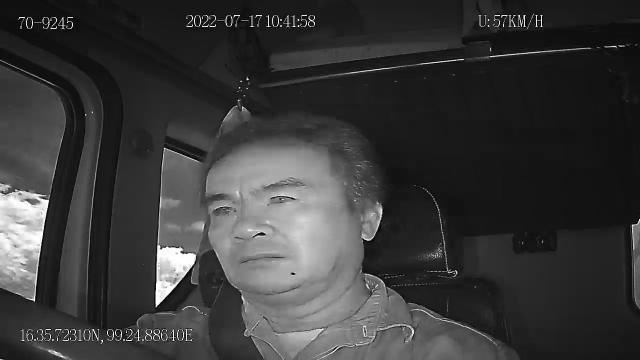SafeDriving: (261, 184, 308, 211), (203, 195, 244, 222)
Seatbelt: (206, 276, 266, 360)
